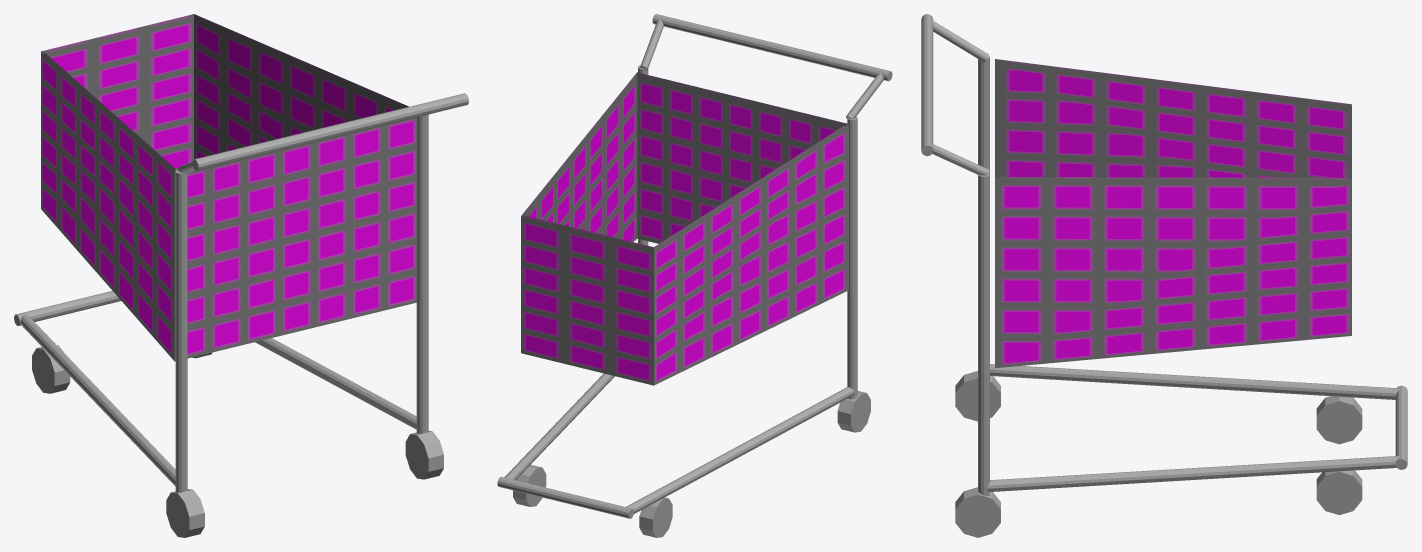
The model's file is shoppingcart.fbx.
3 renders of one model, left to right at view 1: azimuth 30°, elevation 25°; view 2: azimuth 150°, elevation 25°; view 3: azimuth 270°, elevation 25°, orthographic. The views are drawn at different scales.
Parts seen in each view (by area): view 1: pCube2, pCube3, pCylinder4, pCylinder5, pCylinder1, pasted__pCylinder4_ncl1_1, pasted__pCylinder5, pCylinder8, pCylinder9, pasted__pCylinder1, pCylinder11; view 2: pCube2, pCube3, pasted__pCylinder4_ncl1_1, pCylinder4, pCylinder1, pasted__pCylinder5, pasted__pCylinder1, pCylinder9, pCylinder11, pCylinder10, pCylinder3; view 3: pCube2, pCube3, pasted__pCylinder5, pasted__pCylinder4_ncl1_1, pCylinder5, pCylinder11, pCylinder8, pCylinder1, pCylinder10, pCylinder9, pCylinder4, pasted__pCylinder1 (+2 smaller).
Boxes of the visible parts, x1,y1,x2,y2 form: pCube2: (41, 14, 416, 361); pCube3: (44, 16, 406, 169); pCylinder4: (175, 169, 187, 492); pCylinder5: (416, 115, 428, 433); pCylinder1: (192, 93, 468, 170); pasted__pCylinder4_ncl1_1: (20, 314, 175, 486); pasted__pCylinder5: (255, 338, 417, 429); pCylinder8: (405, 430, 443, 479); pCylinder9: (166, 489, 204, 537); pasted__pCylinder1: (14, 291, 120, 325); pCylinder11: (32, 345, 70, 393); pCube2: (521, 72, 848, 385); pCube3: (524, 75, 844, 248); pasted__pCylinder4_ncl1_1: (626, 387, 854, 513); pCylinder4: (847, 116, 857, 399); pCylinder1: (652, 14, 892, 81); pasted__pCylinder5: (504, 373, 614, 480); pasted__pCylinder1: (497, 476, 633, 518); pCylinder9: (837, 391, 870, 432); pCylinder11: (639, 497, 672, 537); pCylinder10: (513, 465, 546, 506); pCylinder3: (846, 73, 883, 119); pCube2: (995, 59, 1351, 368); pCube3: (999, 61, 1348, 178); pasted__pCylinder5: (987, 456, 1399, 491); pasted__pCylinder4_ncl1_1: (990, 364, 1399, 399); pCylinder5: (978, 173, 989, 495); pCylinder11: (1316, 396, 1362, 444); pCylinder8: (955, 487, 1000, 537); pCylinder1: (921, 14, 933, 156); pCylinder10: (1316, 470, 1362, 515); pCylinder9: (955, 371, 1000, 421); pCylinder4: (978, 56, 989, 173); pasted__pCylinder1: (1395, 385, 1407, 469).
Bounding box in the file's own units: 13 × 18.28 × 20.32.
